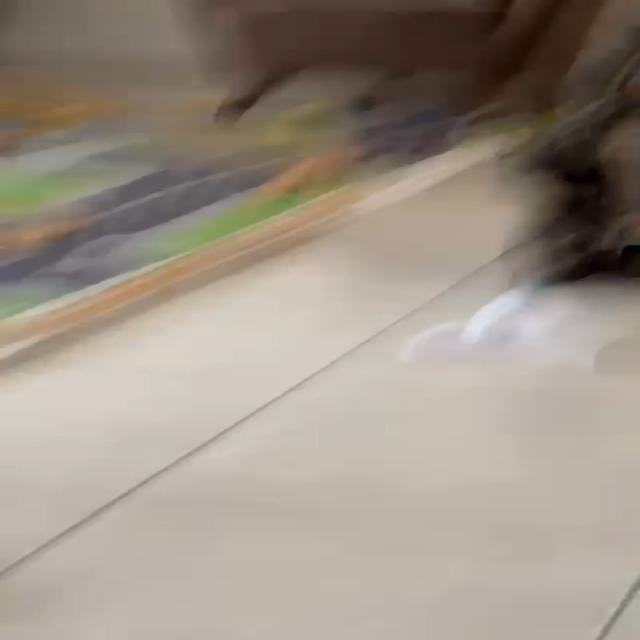authorized: (182, 0, 602, 132)
